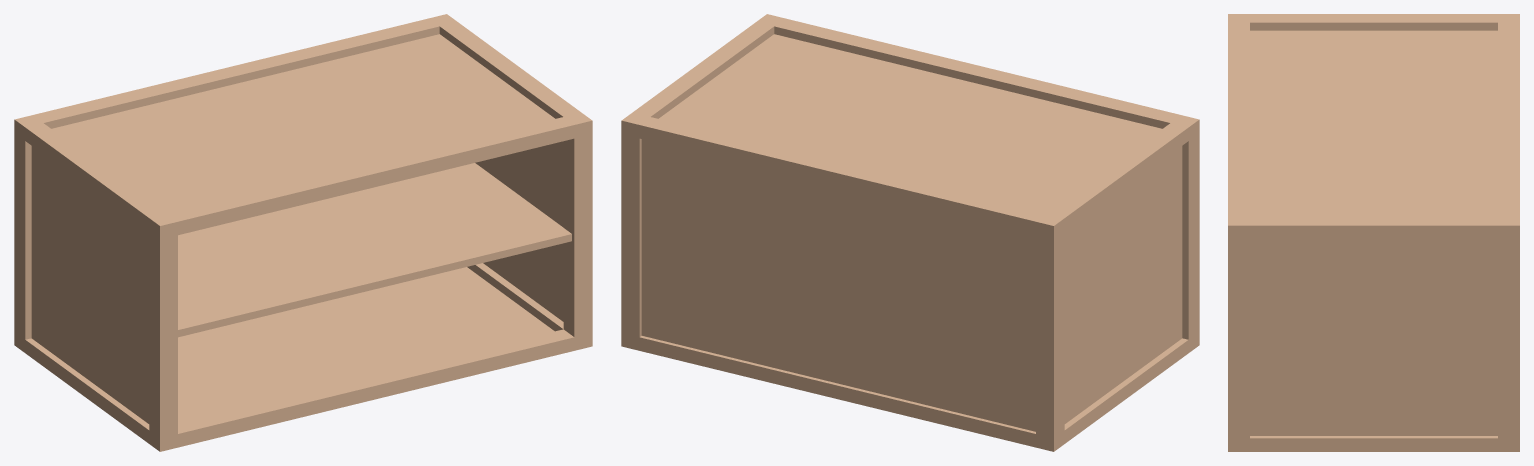
Rendered from PW_display_cube02.fbx.
3 renders of one model, left to right at view 1: azimuth 30°, elevation 25°; view 2: azimuth 150°, elevation 25°; view 3: azimuth 270°, elevation 25°, orthographic.
Parts seen in each view (by area): view 1: display_cube02; view 2: display_cube02; view 3: display_cube02.
Part boxes in pixels (x1,y1,x2,y2): display_cube02: (14,14,592,451); display_cube02: (621,14,1199,451); display_cube02: (1228,14,1519,451).
Bounding box in the file's own units: 120 × 60.34 × 70.03.
